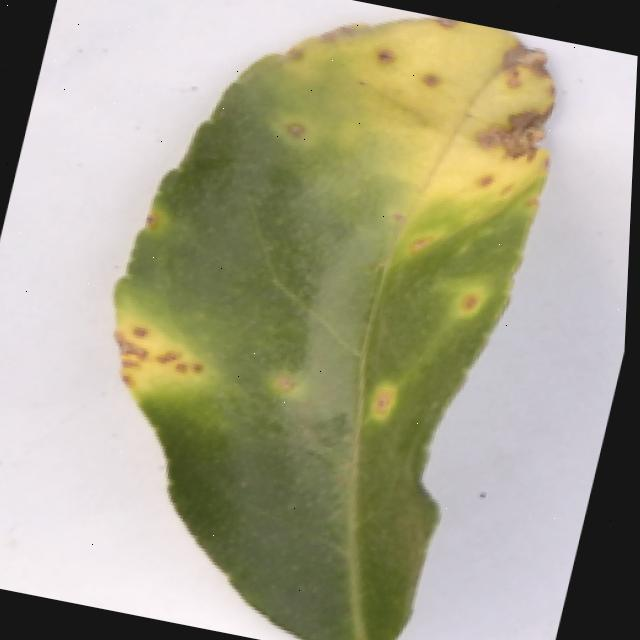canker: (116, 19, 555, 640), (251, 0, 575, 227), (95, 241, 225, 440), (371, 180, 460, 276), (351, 369, 416, 437), (444, 281, 498, 323)
